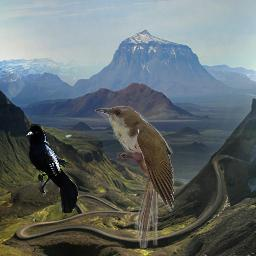Crow: (25, 124, 78, 213)
Cuckoo: (95, 105, 174, 248)
